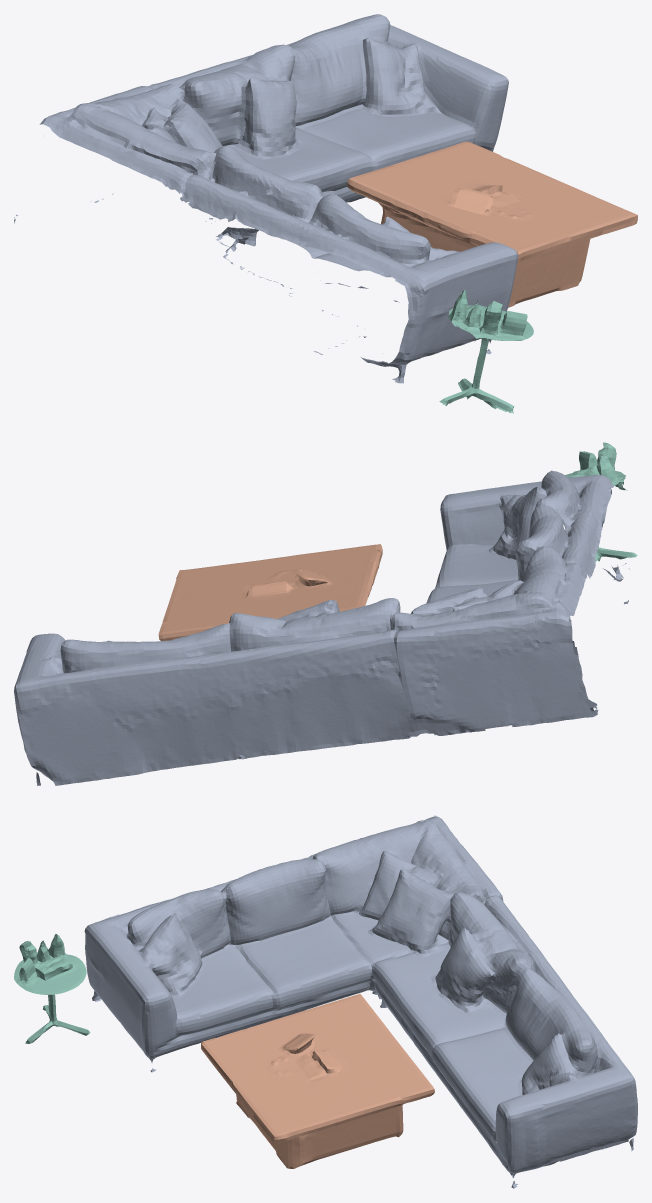
The picture shows the model from 3 angles, top to bottom: view 1: azimuth 30°, elevation 25°; view 2: azimuth 150°, elevation 25°; view 3: azimuth 270°, elevation 25°; orthographic projection. The views are drawn at different scales.
Parts seen in each view (by area): view 1: target_2_0, target_1_0, target_0_0; view 2: target_2_0, target_1_0, target_0_0; view 3: target_2_0, target_1_0, target_0_0.
Boxes of the visible parts, <box> form: target_2_0: <box>14,14,518,383</box>; target_1_0: <box>347,141,637,307</box>; target_0_0: <box>439,289,533,413</box>; target_2_0: <box>14,470,629,785</box>; target_1_0: <box>158,544,382,640</box>; target_0_0: <box>565,442,637,561</box>; target_2_0: <box>84,815,637,1188</box>; target_1_0: <box>201,994,434,1168</box>; target_0_0: <box>14,934,90,1043</box>.
Bounding box in the file's own units: 0.8784 × 0.3452 × 1.06.
